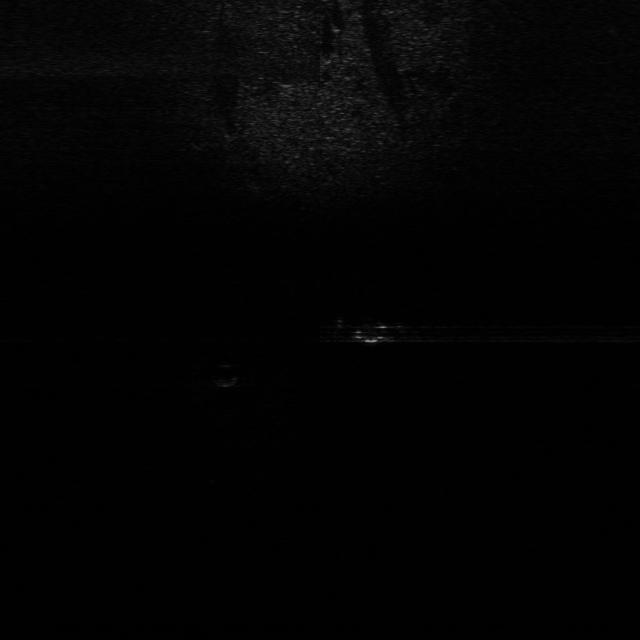ball: (208, 357, 244, 389)
human body: (328, 312, 414, 348)
